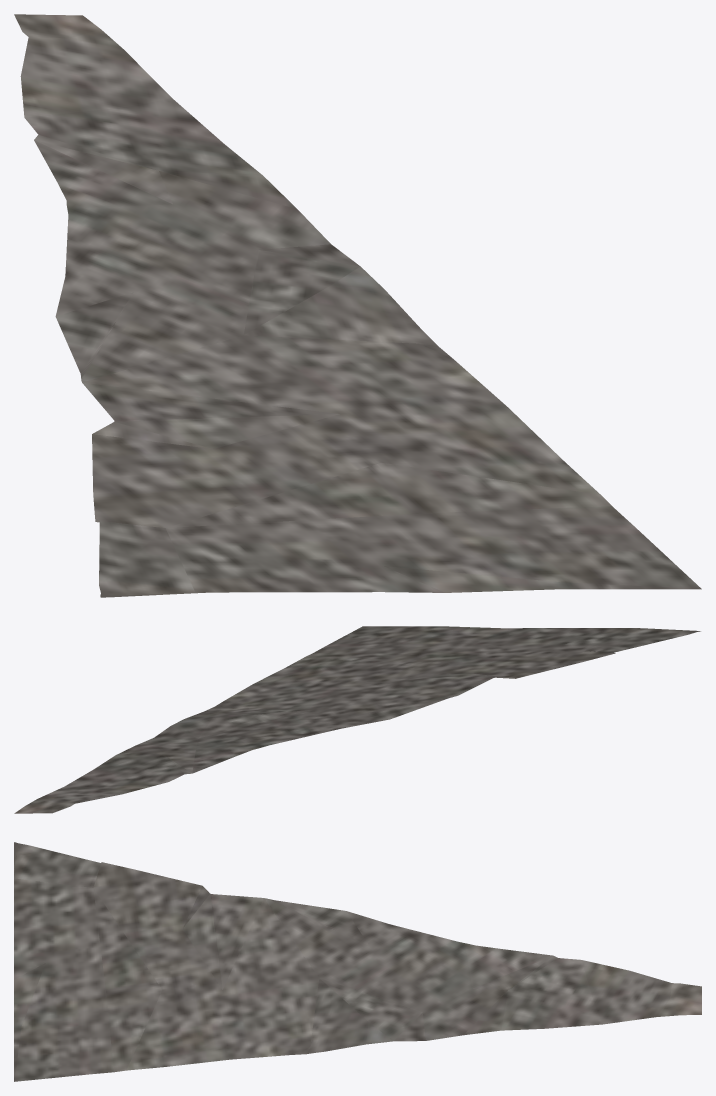
The picture shows the model from 3 angles, top to bottom: view 1: azimuth 30°, elevation 25°; view 2: azimuth 150°, elevation 25°; view 3: azimuth 270°, elevation 25°; orthographic projection. The views are drawn at different scales.
Size of the model in its own units: 0.4695 by 0.1032 by 0.8373.
Materials: 1 (1 with a texture image).
